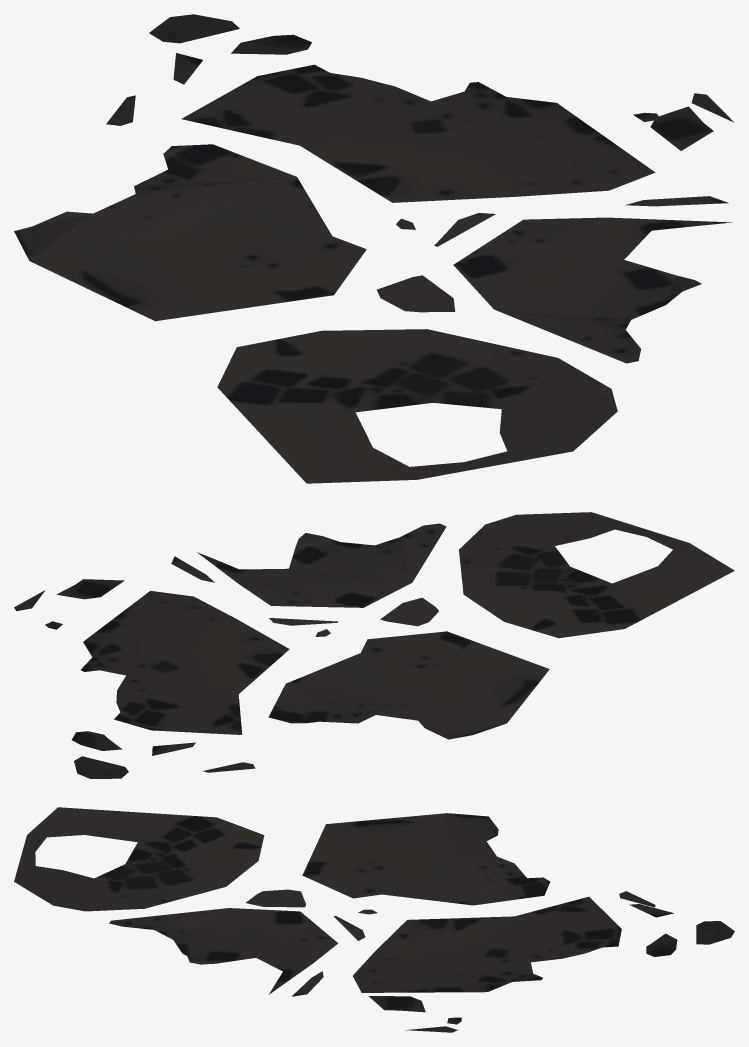
File: Ground_05.FBX
3 views of the same model, one above another, from view 1: azimuth 30°, elevation 25°; view 2: azimuth 150°, elevation 25°; view 3: azimuth 270°, elevation 25° (orthographic). The views are drawn at different scales.
Visible parts, largest first — view 1: Ground_05; view 2: Ground_05; view 3: Ground_05.
Part boxes in pixels (x1,y1,x2,y2): Ground_05: (14,14,734,483); Ground_05: (14,512,734,778); Ground_05: (14,807,734,1032).
Size of the model in its own units: 18.88 by 0.6387 by 25.66.
